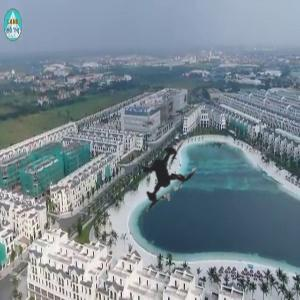drone: (110, 121, 223, 234)
